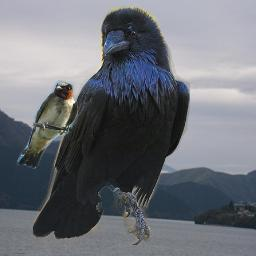Crow: (33, 6, 190, 245)
Swallow: (16, 80, 78, 169)
